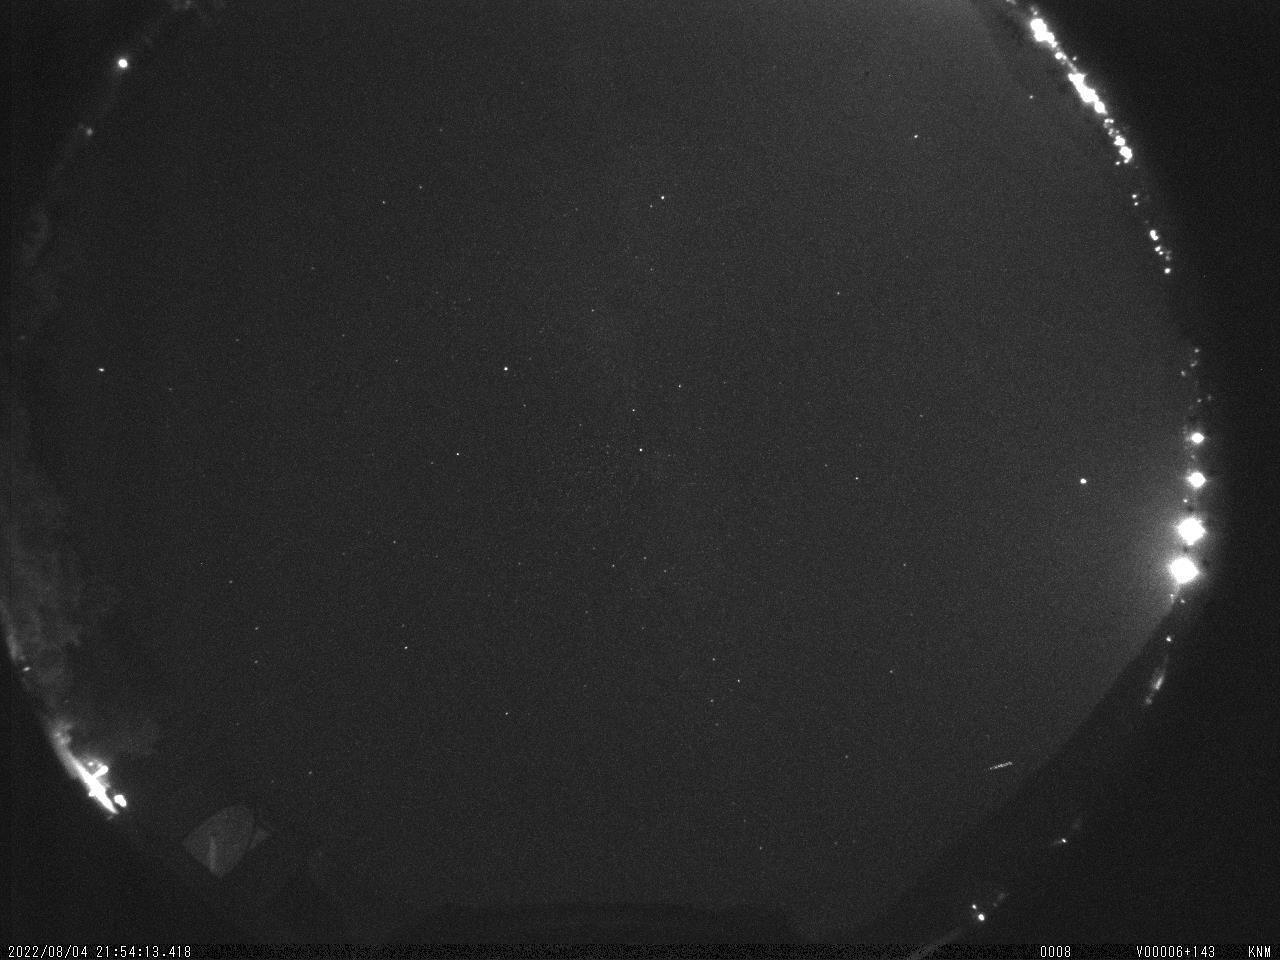Meteor: (980, 755, 1021, 781)
